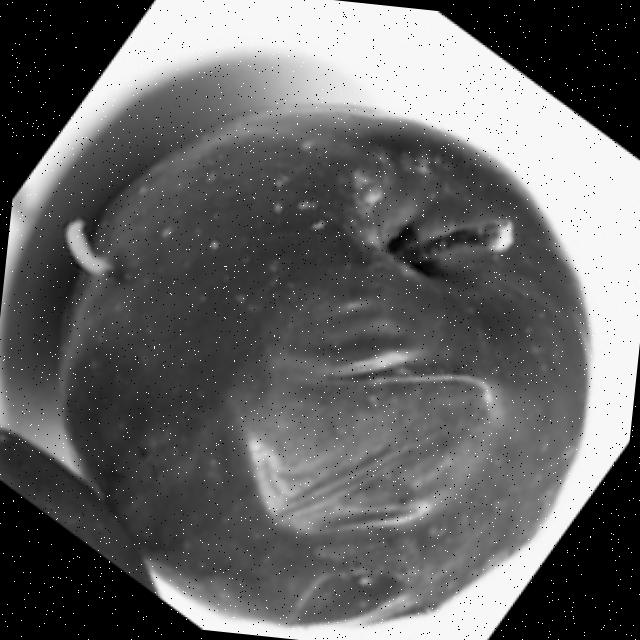Rotten: (20, 66, 630, 640)
